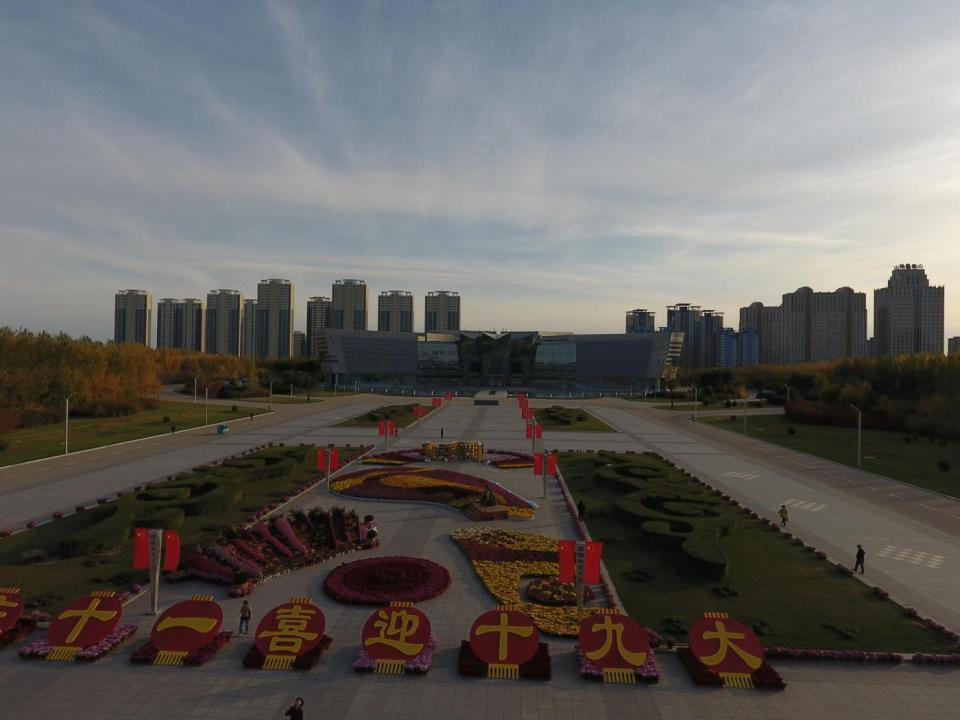car: (760, 390, 772, 394)
